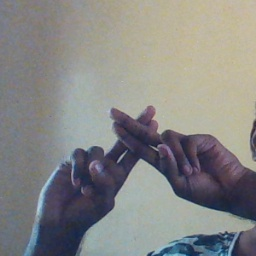F: (78, 99, 204, 197)
